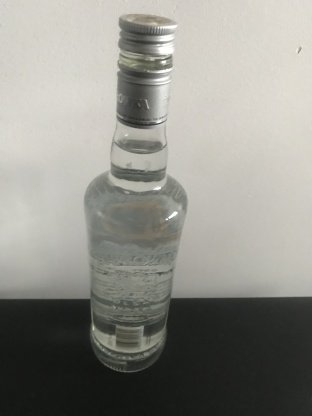nakretka: (114, 11, 178, 129)
